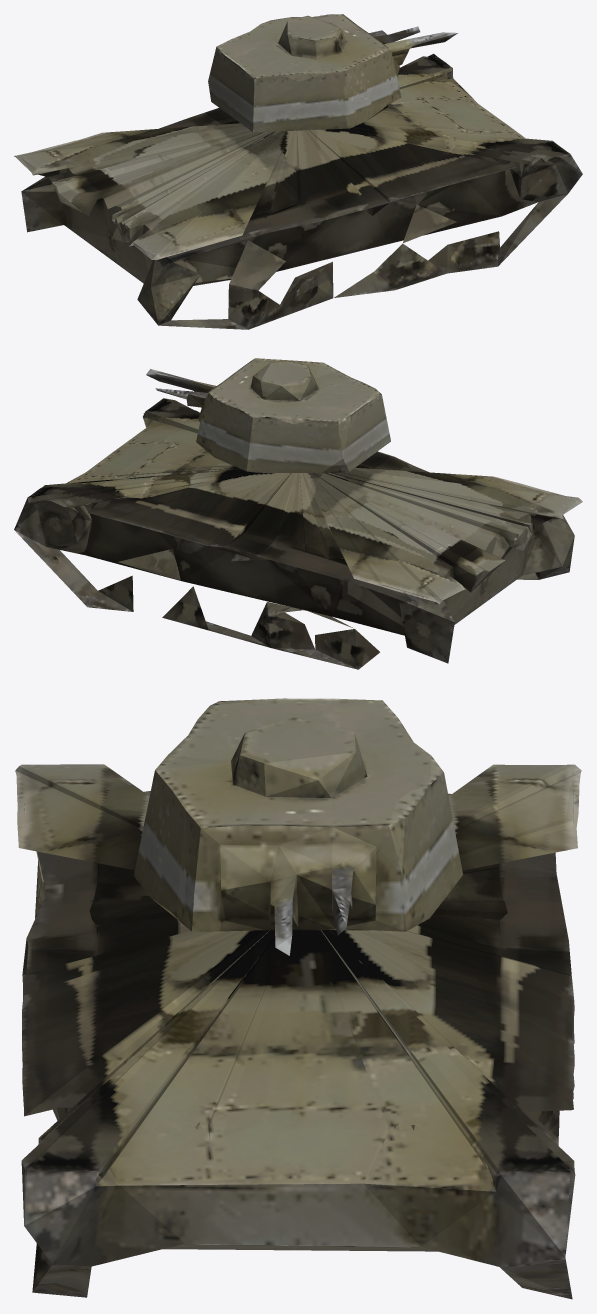
Rendered from both.obj.
The picture shows the model from 3 angles, top to bottom: view 1: azimuth 30°, elevation 25°; view 2: azimuth 150°, elevation 25°; view 3: azimuth 270°, elevation 25°; orthographic projection. The views are drawn at different scales.
Parts seen in each view (by area): view 1: turret.obj; view 2: turret.obj; view 3: turret.obj.
Boxes of the visible parts, box(x1,y1,x2,y2) form: turret.obj: box(14, 14, 582, 329); turret.obj: box(14, 358, 582, 669); turret.obj: box(15, 698, 581, 1299).
Size of the model in its own units: 0.9995 by 0.4799 by 0.564.
Materials: 1 (1 with a texture image).
